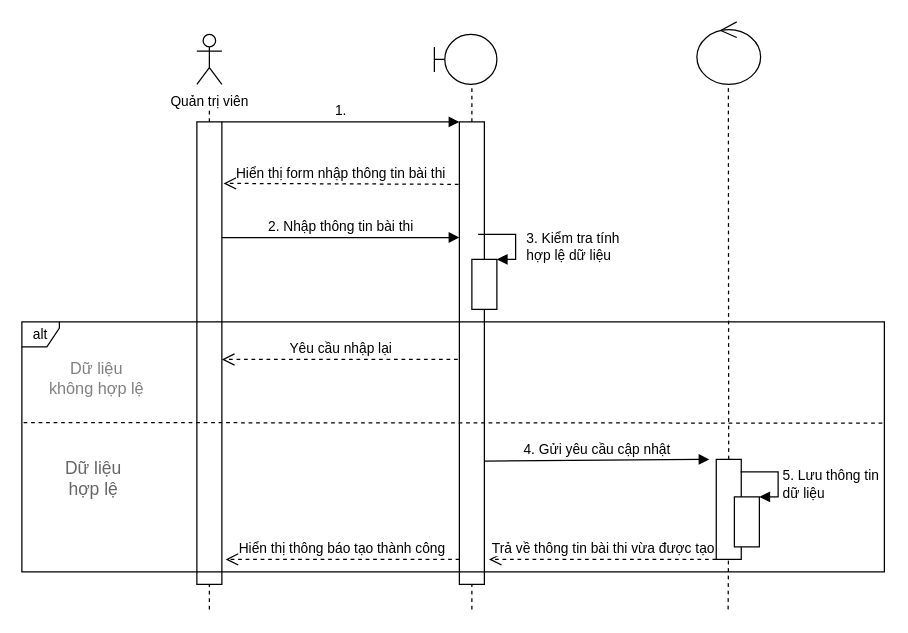
Some shapes in this 908 by 633 pixel diagram are drawn without their labels. Here are the shapes that lost their labels. From the top down, the box of each, then its label:
(433, 33, 497, 84): Trang web
(696, 21, 761, 84): Hệ thống
